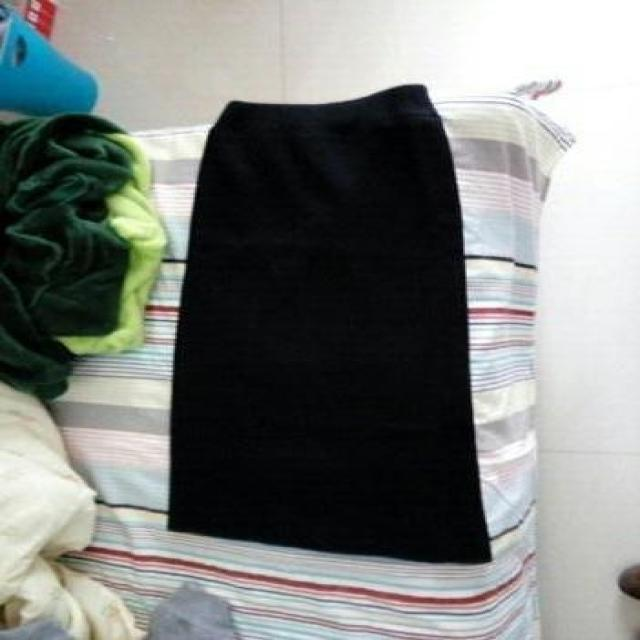skirt: (170, 85, 490, 562)
